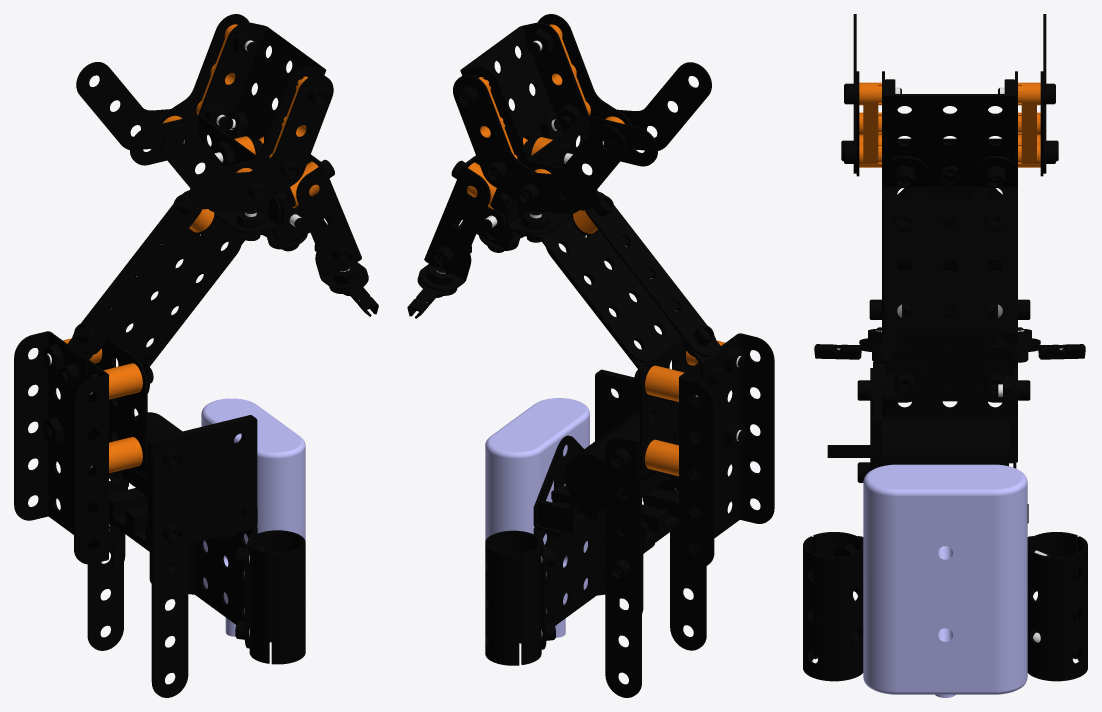
The picture shows the model from 3 angles, left to right: view 1: azimuth 30°, elevation 25°; view 2: azimuth 150°, elevation 25°; view 3: azimuth 270°, elevation 25°; orthographic projection. The views are drawn at different scales.
Parts seen in each view (by area): view 1: matte zinc, polished nickel, matte zinc-4, cast iron, white-pw-mt11050, white-pw-mt11050-2, white-pw-mt11050-3; view 2: matte zinc, polished nickel, matte zinc-4, cast iron, white-pw-mt11050, white-pw-mt11050-2, white-pw-mt11050-3; view 3: white-pw-mt11050, matte zinc, polished nickel, cast iron, white-pw-mt11050-3, matte zinc-4, polished bronze.
Boxes of the visible parts, bbox=[...] form: matte zinc: bbox=[43, 14, 378, 697]; polished nickel: bbox=[14, 22, 361, 564]; matte zinc-4: bbox=[106, 191, 271, 648]; cast iron: bbox=[109, 412, 257, 552]; white-pw-mt11050: bbox=[201, 398, 305, 636]; white-pw-mt11050-2: bbox=[63, 115, 319, 472]; white-pw-mt11050-3: bbox=[196, 24, 307, 158]; matte zinc: bbox=[407, 14, 745, 697]; polished nickel: bbox=[424, 22, 774, 567]; matte zinc-4: bbox=[515, 193, 681, 649]; cast iron: bbox=[537, 369, 678, 550]; white-pw-mt11050: bbox=[485, 398, 589, 637]; white-pw-mt11050-2: bbox=[467, 116, 724, 475]; white-pw-mt11050-3: bbox=[478, 24, 590, 159]; white-pw-mt11050: bbox=[863, 464, 1027, 697]; matte zinc: bbox=[803, 14, 1087, 681]; polished nickel: bbox=[882, 71, 1017, 463]; cast iron: bbox=[873, 362, 1008, 469]; white-pw-mt11050-3: bbox=[859, 82, 1040, 164]; matte zinc-4: bbox=[850, 258, 1040, 632]; polished bronze: bbox=[827, 445, 872, 457].
Size of the model in its own units: 10.49 by 20.41 by 7.99.
